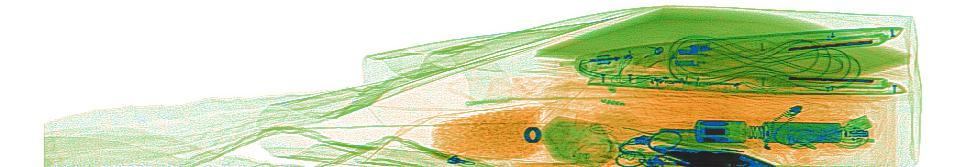battery: (763, 120, 842, 146)
